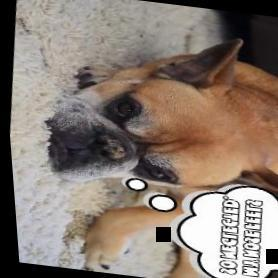keratosis: (92, 131, 131, 162)
